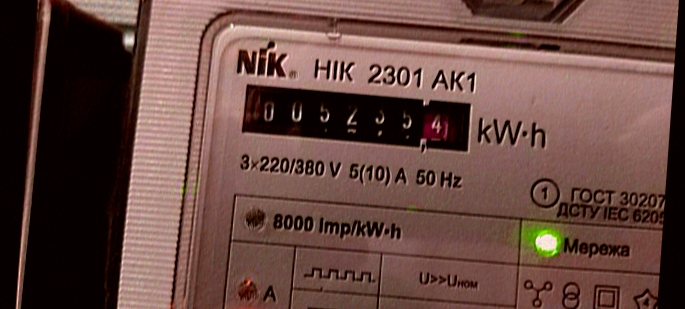0: (261, 97, 278, 124), (290, 97, 305, 123)
2: (345, 100, 360, 126)
3: (373, 100, 388, 126)
4: (429, 108, 446, 135)
5: (399, 103, 416, 131), (317, 98, 333, 125)
screen: (232, 74, 484, 161)
